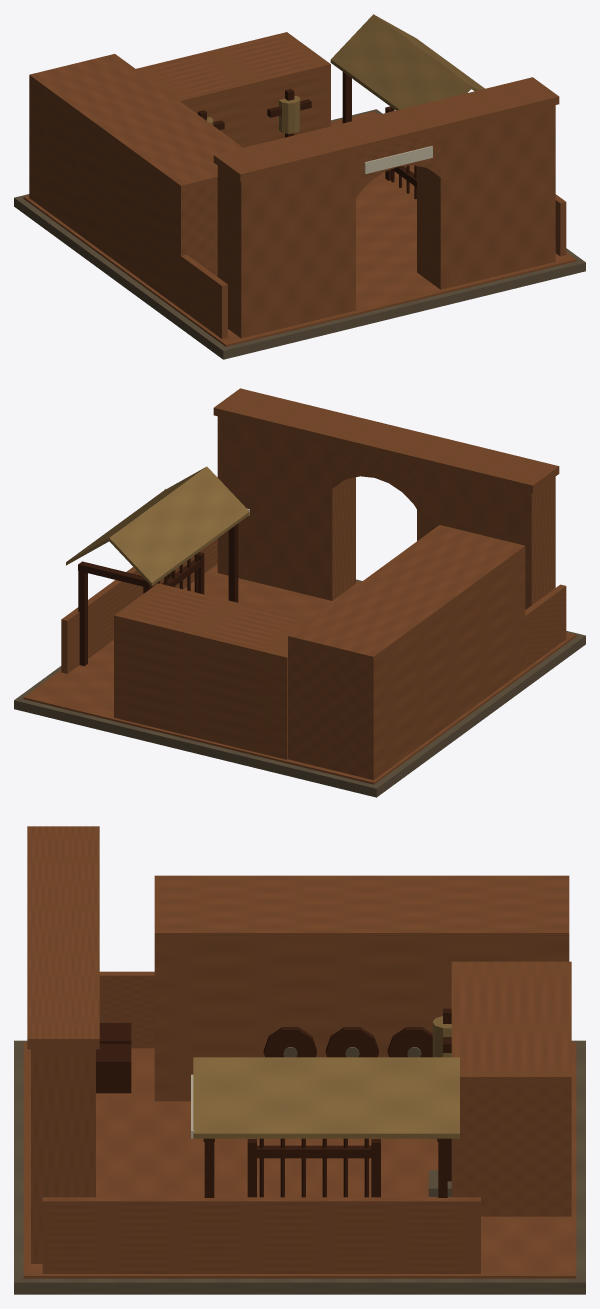
File: Berber_Barracks_Age1.fbx
The picture shows the model from 3 angles, top to bottom: view 1: azimuth 30°, elevation 25°; view 2: azimuth 150°, elevation 25°; view 3: azimuth 270°, elevation 25°; orthographic projection. The views are drawn at different scales.
Parts seen in each view (by area): view 1: entry_west_pier, entry_east_pier, west_armoury, west_roof, entry_cap, court_floor, foundation, pitched_training_shelter, rear_roof, rear_store, court_side_wall, gateway_arch (+4 smaller); view 2: west_armoury, entry_east_pier, rear_store, west_roof, entry_cap, entry_west_pier, court_floor, pitched_training_shelter, foundation, rear_roof, court_side_wall.001, gateway_arch (+4 smaller); view 3: west_armoury, court_side_wall.001, court_floor, west_roof, pitched_training_shelter, entry_cap, rear_store, rear_roof, foundation, entry_east_pier, court_side_wall, logistics_crate.001 (+7 smaller).
Boxes of the visible parts, left/top/right/bottom form: entry_west_pier: left=217, top=154, right=355, bottom=338; entry_east_pier: left=417, top=105, right=555, bottom=289; west_armoury: left=29, top=81, right=217, bottom=308; west_roof: left=29, top=54, right=242, bottom=191; entry_cap: left=213, top=77, right=559, bottom=181; court_floor: left=23, top=111, right=576, bottom=346; foundation: left=14, top=109, right=585, bottom=359; pitched_training_shelter: left=330, top=14, right=484, bottom=110; rear_roof: left=136, top=32, right=330, bottom=105; rear_store: left=186, top=70, right=330, bottom=147; court_side_wall: left=181, top=254, right=227, bottom=338; gateway_arch: left=356, top=133, right=440, bottom=197; west_armoury: left=288, top=552, right=525, bottom=779; entry_east_pier: left=217, top=416, right=355, bottom=600; rear_store: left=114, top=622, right=287, bottom=759; west_roof: left=288, top=525, right=525, bottom=662; entry_cap: left=213, top=388, right=559, bottom=492; entry_west_pier: left=417, top=465, right=555, bottom=609; court_floor: left=23, top=564, right=576, bottom=784; pitched_training_shelter: left=66, top=466, right=249, bottom=585; foundation: left=14, top=579, right=585, bottom=797; rear_roof: left=114, top=583, right=308, bottom=663; court_side_wall.001: left=61, top=538, right=217, bottom=673; gateway_arch: left=332, top=444, right=416, bottom=508; west_armoury: left=154, top=941, right=569, bottom=1101; court_side_wall.001: left=42, top=1197, right=480, bottom=1273; court_floor: left=23, top=1042, right=576, bottom=1278; west_roof: left=154, top=875, right=569, bottom=941; pitched_training_shelter: left=193, top=1057, right=459, bottom=1138; entry_cap: left=27, top=826, right=99, bottom=1049; rear_store: left=451, top=1085, right=571, bottom=1216; rear_roof: left=451, top=961, right=571, bottom=1085; foundation: left=14, top=1040, right=585, bottom=1294; entry_east_pier: left=31, top=1049, right=95, bottom=1263; court_side_wall: left=99, top=971, right=154, bottom=1048; logistics_crate.001: left=96, top=1044, right=131, bottom=1093.
Bounding box in the file's own units: 600 × 279 × 600.
5 materials, 5 textured.
